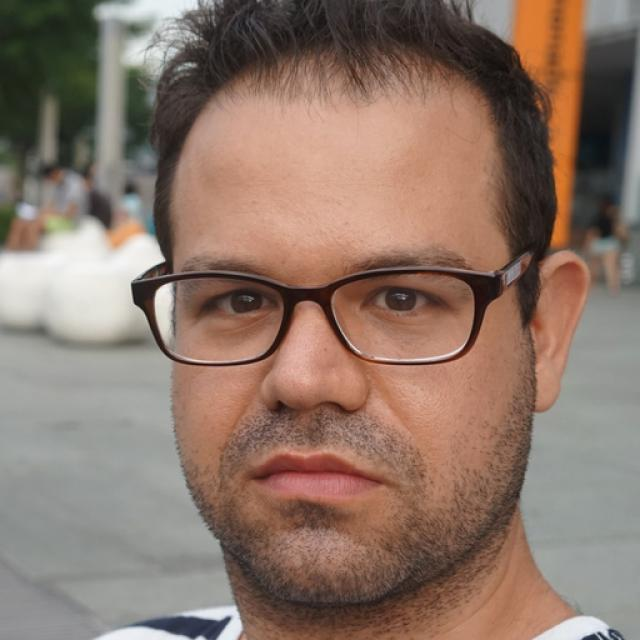disgust: (168, 40, 534, 605)
